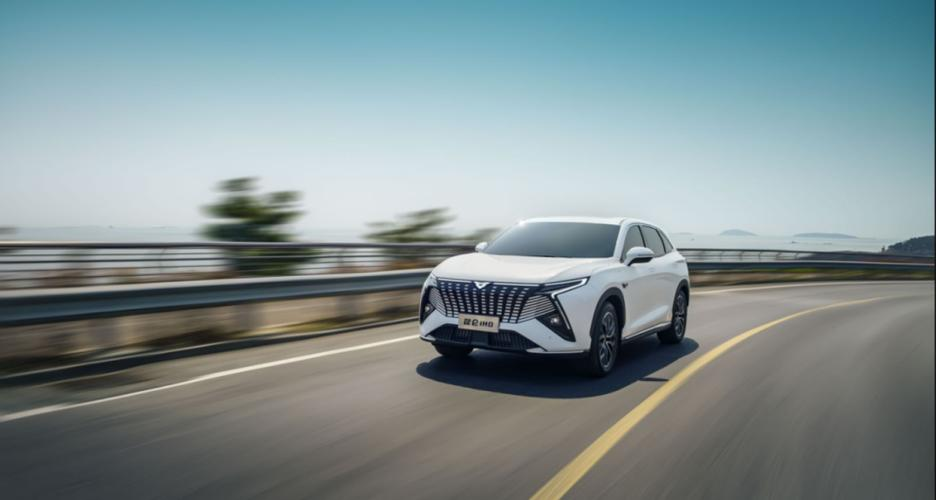汽车: (410, 206, 707, 380)
